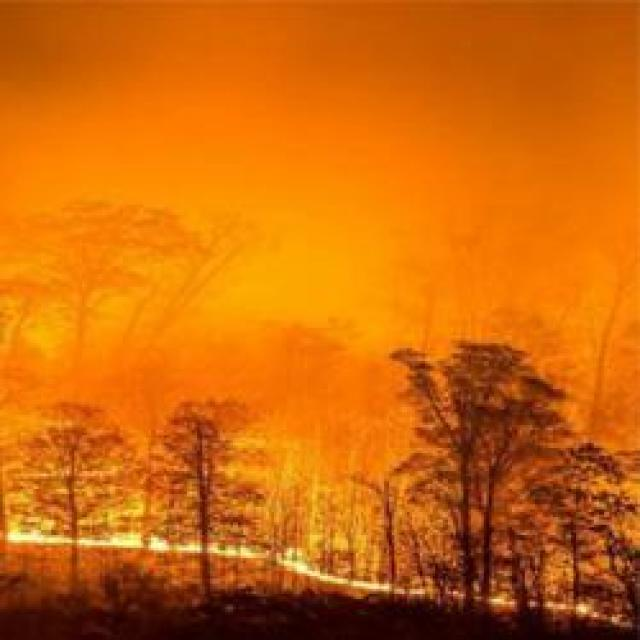fire: (62, 425, 622, 610)
